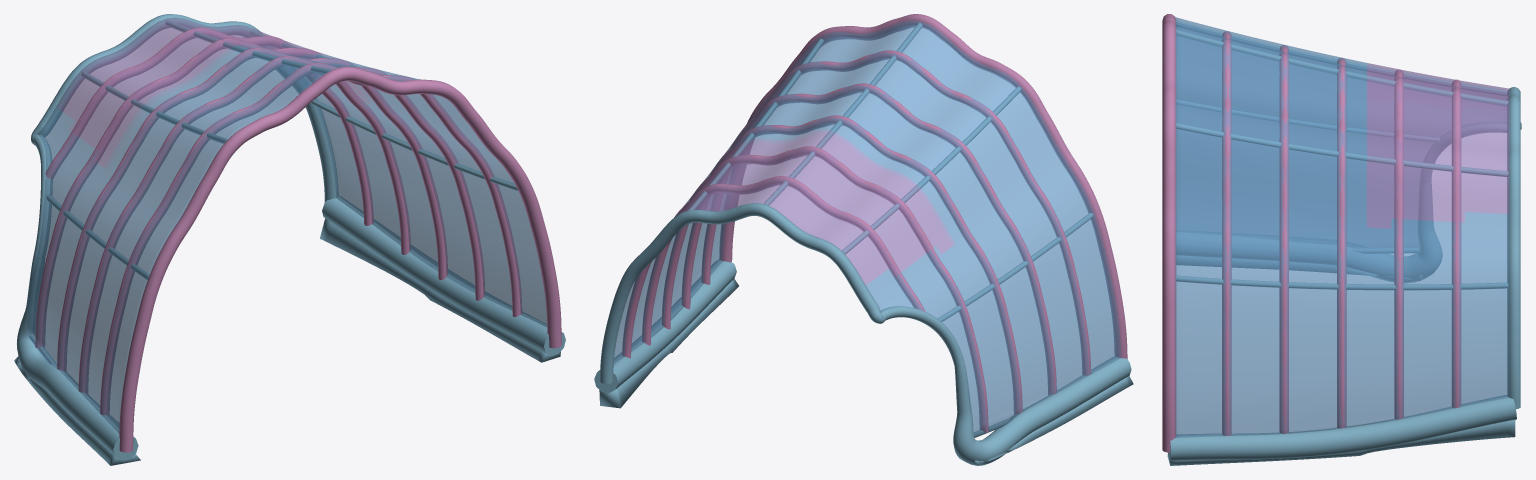
File: cove-corner-v3.glb
3 renders of one model, left to right at view 1: azimuth 30°, elevation 25°; view 2: azimuth 150°, elevation 25°; view 3: azimuth 270°, elevation 25°, orthographic. The views are drawn at different scales.
Parts seen in each view (by area): view 1: Harbor / continuous translucent shell hall, Harbor / curved shell structural rib, Harbor / continuous entrance runner jamb rear arch, Harbor / curved shell structural rib.001, Harbor / shell grown footing.001, Harbor / curved shell structural rib.002, Harbor / curved shell structural rib.003, Harbor / curved shell structural rib.004, Harbor / corner structural rib joined to rim, Harbor / continuous grounded runner socket right, Harbor / continuous grounded runner socket left, Harbor / shell longitudinal seam.001 (+3 smaller); view 2: Harbor / continuous translucent shell hall, Harbor / continuous entrance runner jamb rear arch, Harbor / curved shell structural rib, Harbor / curved shell structural rib.001, Harbor / curved shell structural rib.002, Harbor / curved shell structural rib.003, Harbor / curved shell structural rib.004, Harbor / shell grown footing.001, Harbor / corner structural rib joined to rim, Harbor / continuous grounded runner socket right, Harbor / continuous grounded runner socket left, Harbor / shell longitudinal seam.004 (+3 smaller); view 3: Harbor / continuous translucent shell hall, Harbor / continuous entrance runner jamb rear arch, Harbor / shell grown footing.001, Harbor / curved shell structural rib, Harbor / curved shell structural rib.001, Harbor / curved shell structural rib.002, Harbor / curved shell structural rib.003, Harbor / curved shell structural rib.004, Harbor / corner structural rib joined to rim, Harbor / continuous grounded runner socket right, Harbor / shell longitudinal seam.001, Harbor / shell longitudinal seam.002 (+4 smaller).
Boxes of the visible parts, bbox=[...] form: Harbor / continuous translucent shell hall: bbox=[27, 17, 547, 433]; Harbor / curved shell structural rib: bbox=[119, 66, 561, 452]; Harbor / continuous entrance runner jamb rear arch: bbox=[17, 14, 338, 460]; Harbor / curved shell structural rib.001: bbox=[100, 63, 522, 415]; Harbor / shell grown footing.001: bbox=[322, 196, 565, 356]; Harbor / curved shell structural rib.002: bbox=[78, 56, 485, 393]; Harbor / curved shell structural rib.003: bbox=[57, 47, 447, 371]; Harbor / curved shell structural rib.004: bbox=[35, 38, 410, 348]; Harbor / corner structural rib joined to rim: bbox=[45, 27, 373, 225]; Harbor / continuous grounded runner socket right: bbox=[320, 218, 560, 362]; Harbor / continuous grounded runner socket left: bbox=[14, 356, 140, 465]; Harbor / shell longitudinal seam.001: bbox=[311, 99, 518, 190]; Harbor / continuous translucent shell hall: bbox=[613, 20, 1121, 437]; Harbor / continuous entrance runner jamb rear arch: bbox=[600, 203, 1131, 465]; Harbor / curved shell structural rib: bbox=[719, 14, 1127, 359]; Harbor / curved shell structural rib.001: bbox=[701, 50, 1091, 375]; Harbor / curved shell structural rib.002: bbox=[681, 83, 1056, 395]; Harbor / curved shell structural rib.003: bbox=[661, 115, 1022, 414]; Harbor / curved shell structural rib.004: bbox=[642, 146, 988, 432]; Harbor / shell grown footing.001: bbox=[594, 260, 736, 392]; Harbor / corner structural rib joined to rim: bbox=[622, 176, 925, 358]; Harbor / continuous grounded runner socket right: bbox=[599, 278, 738, 408]; Harbor / continuous grounded runner socket left: bbox=[973, 376, 1133, 465]; Harbor / shell longitudinal seam.004: bbox=[842, 86, 1020, 254]; Harbor / continuous translucent shell hall: bbox=[1175, 17, 1509, 437]; Harbor / continuous entrance runner jamb rear arch: bbox=[1176, 87, 1521, 409]; Harbor / shell grown footing.001: bbox=[1168, 395, 1516, 461]; Harbor / curved shell structural rib: bbox=[1162, 14, 1176, 452]; Harbor / curved shell structural rib.001: bbox=[1222, 31, 1231, 435]; Harbor / curved shell structural rib.002: bbox=[1279, 45, 1288, 433]; Harbor / curved shell structural rib.003: bbox=[1337, 58, 1346, 428]; Harbor / curved shell structural rib.004: bbox=[1394, 69, 1403, 419]; Harbor / corner structural rib joined to rim: bbox=[1452, 79, 1461, 408]; Harbor / continuous grounded runner socket right: bbox=[1167, 419, 1515, 465]; Harbor / shell longitudinal seam.001: bbox=[1176, 275, 1508, 290]; Harbor / shell longitudinal seam.002: bbox=[1176, 123, 1508, 176].
Size of the model in its own units: 4.97 by 3.67 by 3.46.
